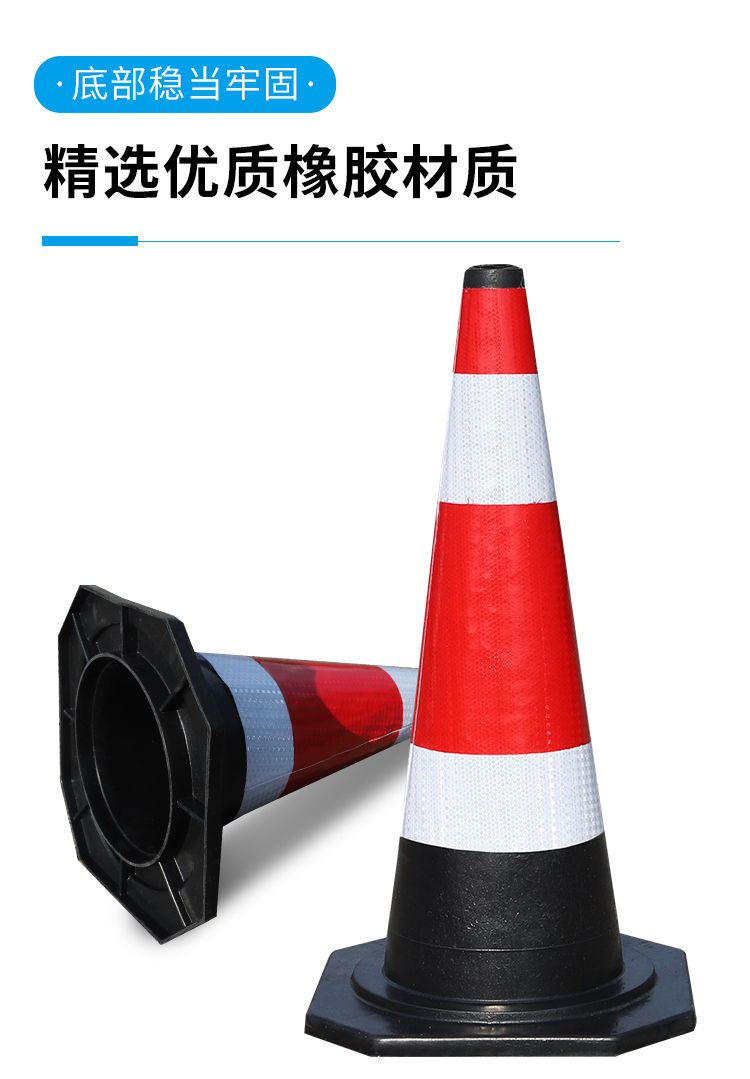traffic_cone: (304, 244, 721, 1079), (26, 591, 480, 916)
